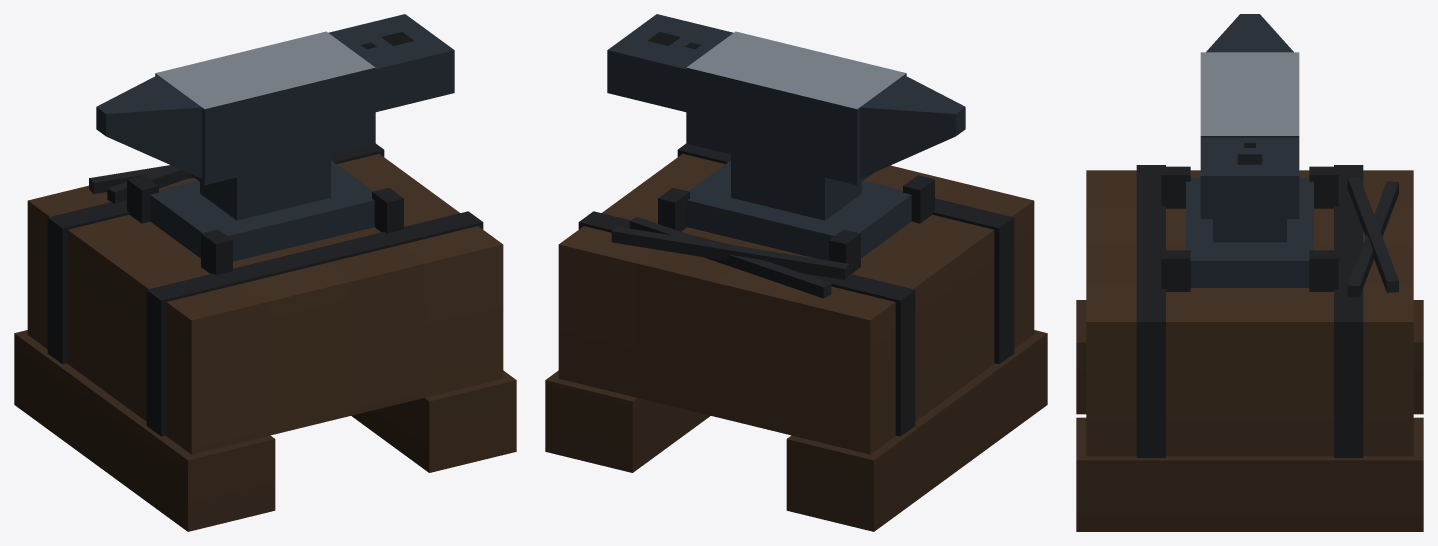
The model's file is tool.anvil.blued.glb.
The picture shows the model from 3 angles, left to right: view 1: azimuth 30°, elevation 25°; view 2: azimuth 150°, elevation 25°; view 3: azimuth 270°, elevation 25°; orthographic projection.
Visible parts, largest first — view 1: tool_anvil_blued; view 2: tool_anvil_blued; view 3: tool_anvil_blued.
Part boxes in pixels (x1,y1,x2,y2): tool_anvil_blued: (14, 14, 516, 531); tool_anvil_blued: (545, 14, 1047, 531); tool_anvil_blued: (1076, 14, 1423, 531).
Size of what is drawn, in the model's own units: 0.769 by 0.8 by 0.704.
